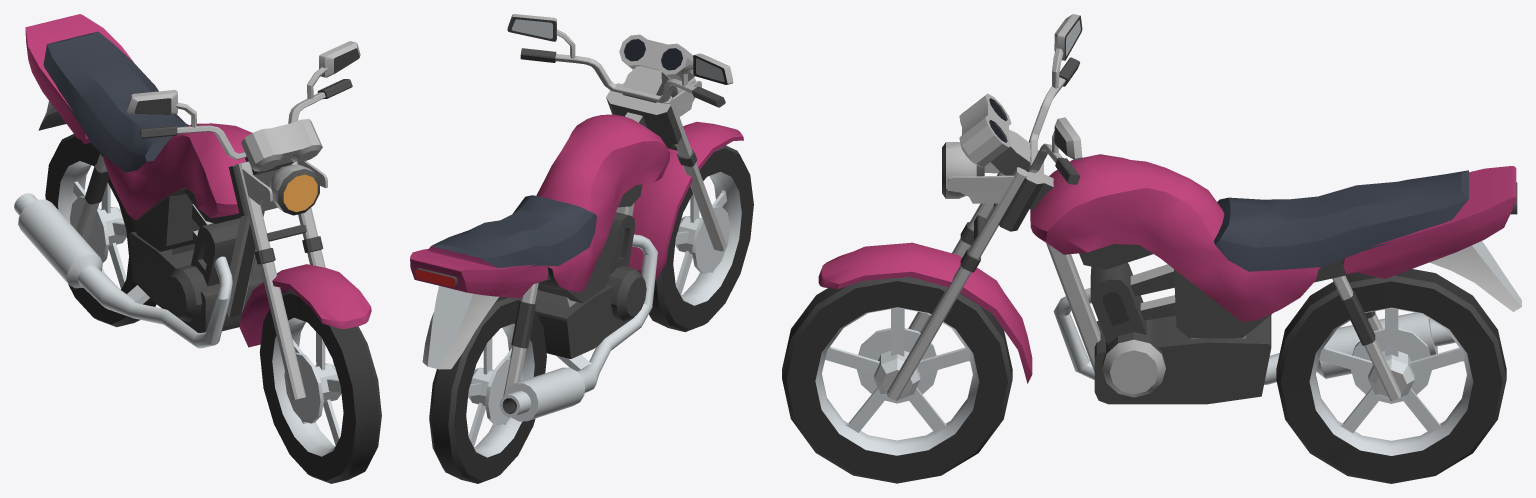
File: Motobike_3.fbx
3 renders of one model, left to right at view 1: azimuth 30°, elevation 25°; view 2: azimuth 150°, elevation 25°; view 3: azimuth 270°, elevation 25°, orthographic. The views are drawn at different scales.
Visible parts, largest first — view 1: Motobike_3, Motobike_3_Tire_1, Motobike_3_Tire_2; view 2: Motobike_3, Motobike_3_Tire_2, Motobike_3_Tire_1; view 3: Motobike_3, Motobike_3_Tire_2, Motobike_3_Tire_1.
Boxes of the visible parts, x1,y1,x2,y2 form: Motobike_3: (14,14,371,400); Motobike_3_Tire_1: (259,289,381,483); Motobike_3_Tire_2: (45,134,156,327); Motobike_3: (410,14,743,421); Motobike_3_Tire_2: (429,297,546,483); Motobike_3_Tire_1: (649,145,753,331); Motobike_3: (818,14,1521,404); Motobike_3_Tire_2: (1276,269,1506,483); Motobike_3_Tire_1: (782,277,1012,483).
Size of the model in its own units: 116 by 166 by 277.
